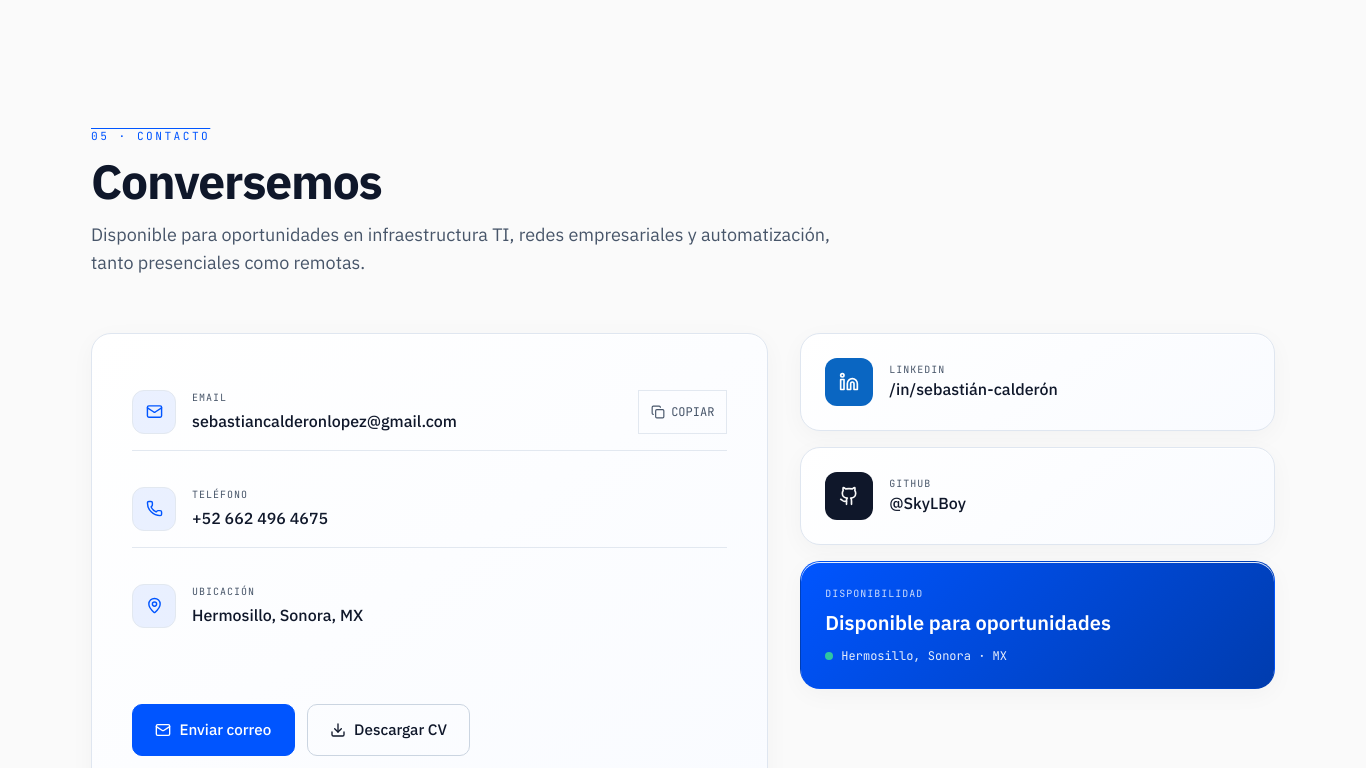
Experiencia, especialidades y contacto › copia el correo y anuncia el resultado en es
Click the button with test id "contact-copy-email".
click(683, 412)  # box [638,390,727,434]
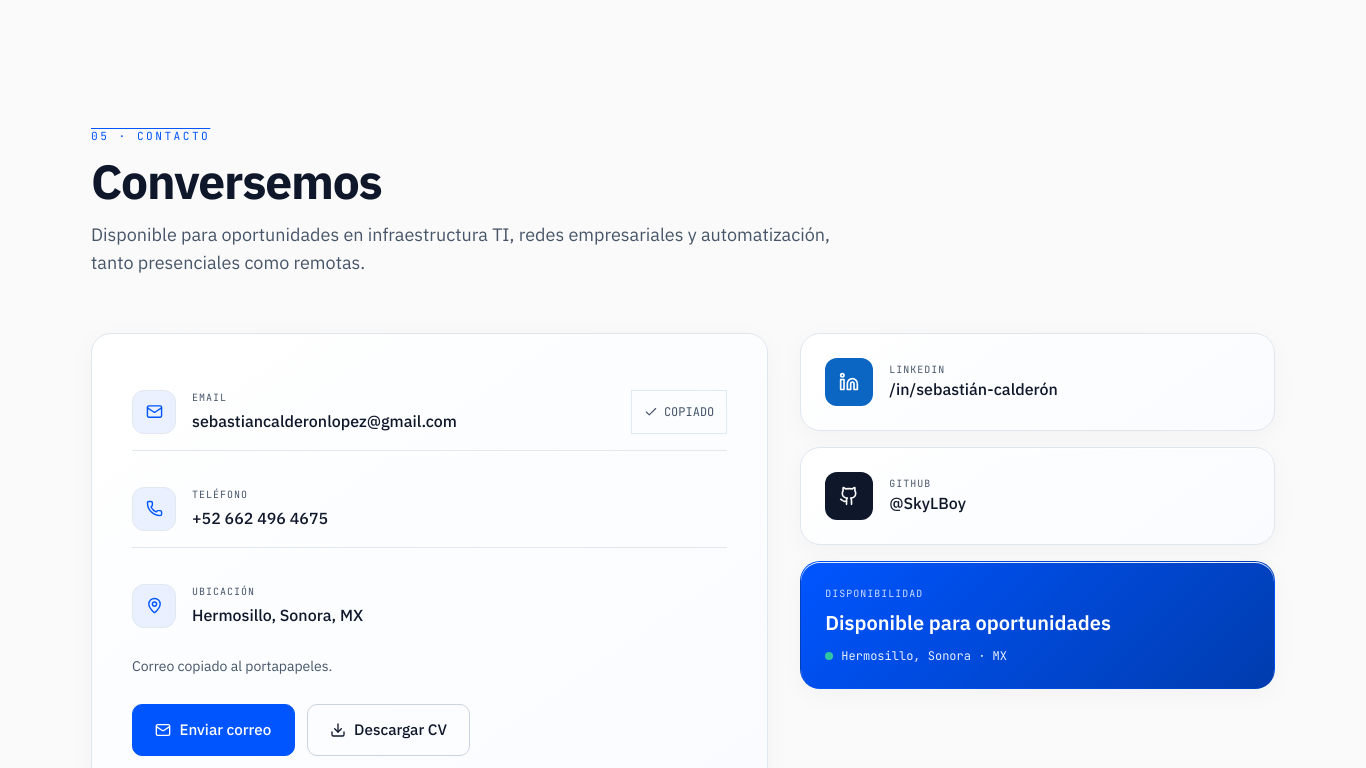
Expected: the button with test id "contact-copy-email" is enabled, [631,390,727,434]
Result: the message "Correo copiado al portapapeles." is shown at [132,657,332,675]
